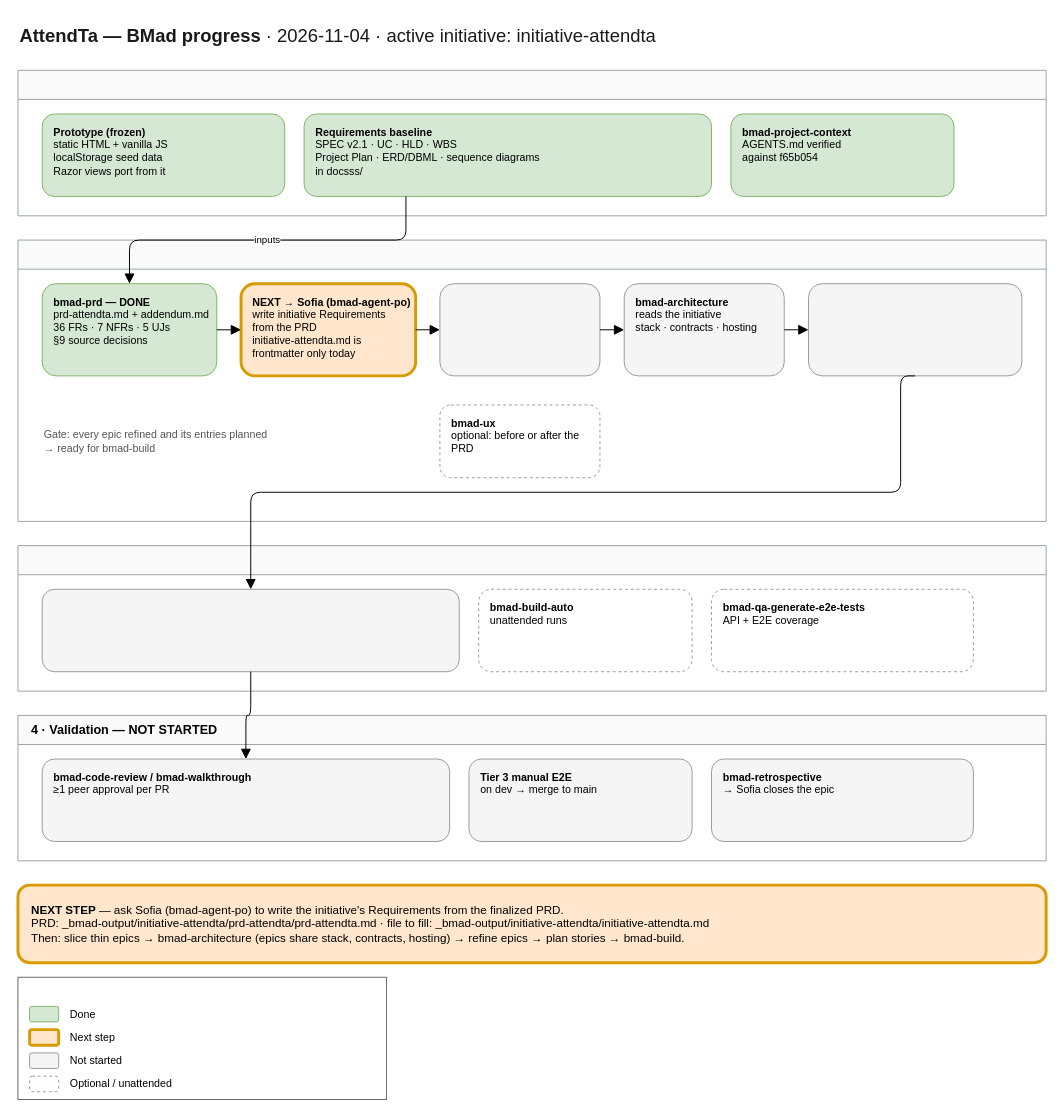
Some shapes in this 1064 by 1116 pixel diagram are drawn without their labels. Each missing label, with the box of its shape:
1 · Analysis — DONE: (17, 69, 1046, 216)
2 · Planning — IN PROGRESS: (17, 239, 1046, 521)
3 · Implementation — NOT STARTED: (17, 545, 1046, 691)
bmad-build per ticket ASP.NET Core MVC + Razor EF Core · SQL Server: (41, 588, 459, 672)
Legend: (17, 976, 387, 1099)
Sofia — refine epics, then plan stories entries → tickets.toml: (808, 283, 1022, 376)
Sofia — slice into thin epics (refined: false): (439, 283, 600, 376)
